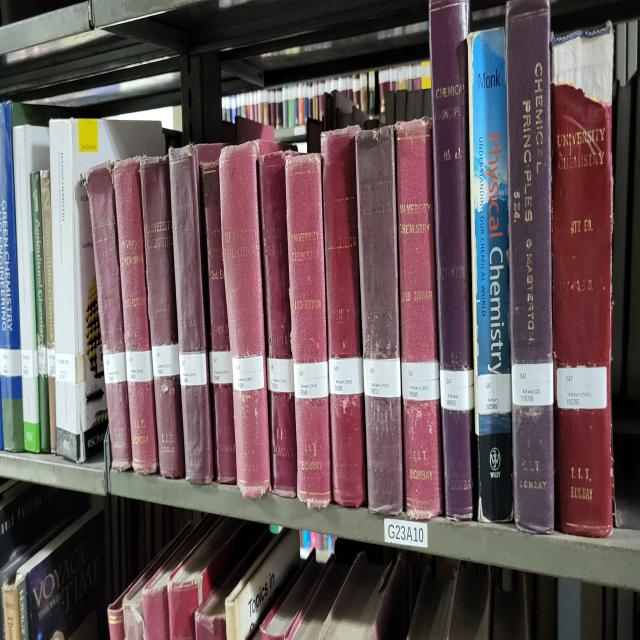Book: (49, 119, 164, 463), (551, 22, 614, 536), (505, 0, 554, 533), (429, 0, 475, 519), (468, 30, 512, 522), (395, 116, 442, 519), (219, 141, 271, 498), (169, 143, 222, 484), (356, 127, 402, 514), (321, 127, 366, 506), (285, 154, 330, 506), (140, 157, 185, 476), (114, 157, 159, 473), (86, 162, 131, 471), (259, 152, 298, 498), (12, 124, 50, 452), (201, 162, 236, 484), (0, 103, 24, 452), (30, 173, 51, 452), (40, 170, 58, 455)
Label: (556, 365, 606, 409), (511, 363, 554, 406), (364, 357, 401, 398), (440, 368, 474, 411), (401, 363, 440, 400), (478, 373, 511, 414), (329, 357, 364, 395), (294, 360, 329, 398), (232, 354, 264, 392), (179, 352, 208, 387), (151, 344, 180, 379), (268, 357, 294, 392), (126, 349, 152, 381), (102, 352, 126, 384), (209, 352, 232, 384), (55, 352, 76, 384), (0, 349, 21, 376), (21, 349, 38, 379), (46, 346, 56, 379), (38, 346, 48, 376)
